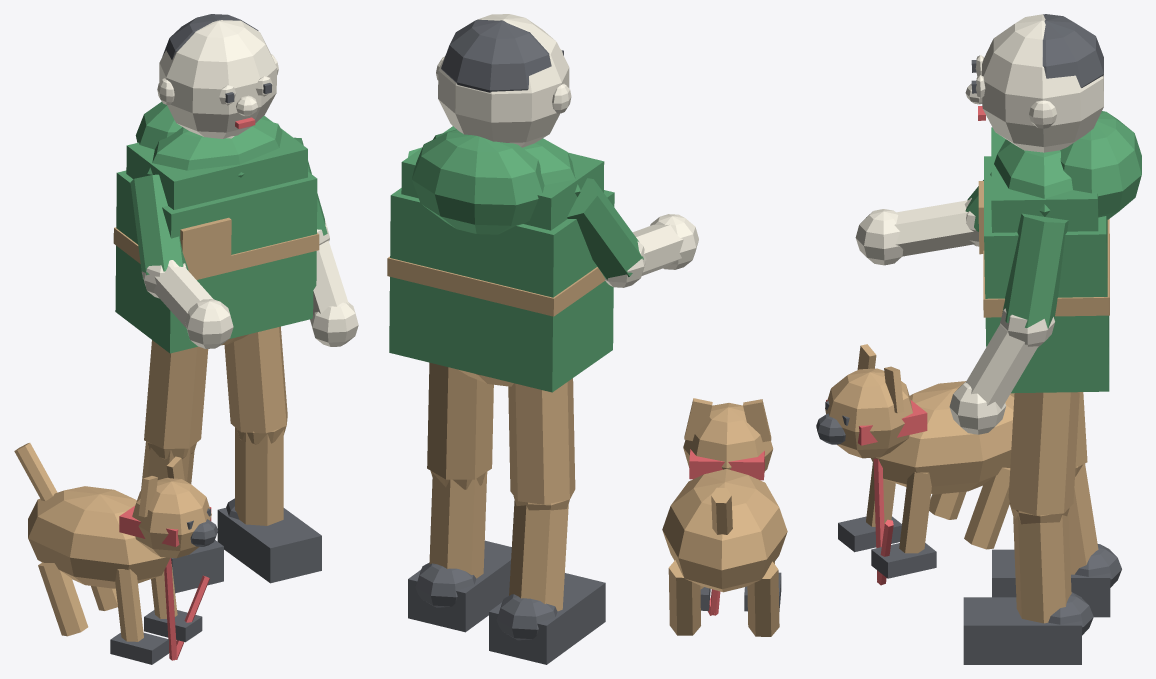
File: lawn-mowing-simulator-kit-dog-walker-standing-8770595b__27353.glb
3 renders of one model, left to right at view 1: azimuth 30°, elevation 25°; view 2: azimuth 150°, elevation 25°; view 3: azimuth 270°, elevation 25°, orthographic. The views are drawn at different scales.
Parts seen in each view (by area): view 1: dog-walker-standing; view 2: dog-walker-standing; view 3: dog-walker-standing.
Part boxes in pixels (x1,y1,x2,y2): dog-walker-standing: (14,14,358,664); dog-walker-standing: (387,14,787,664); dog-walker-standing: (816,14,1141,664).
Size of the model in its own units: 1.06 by 1.75 by 0.8257.
